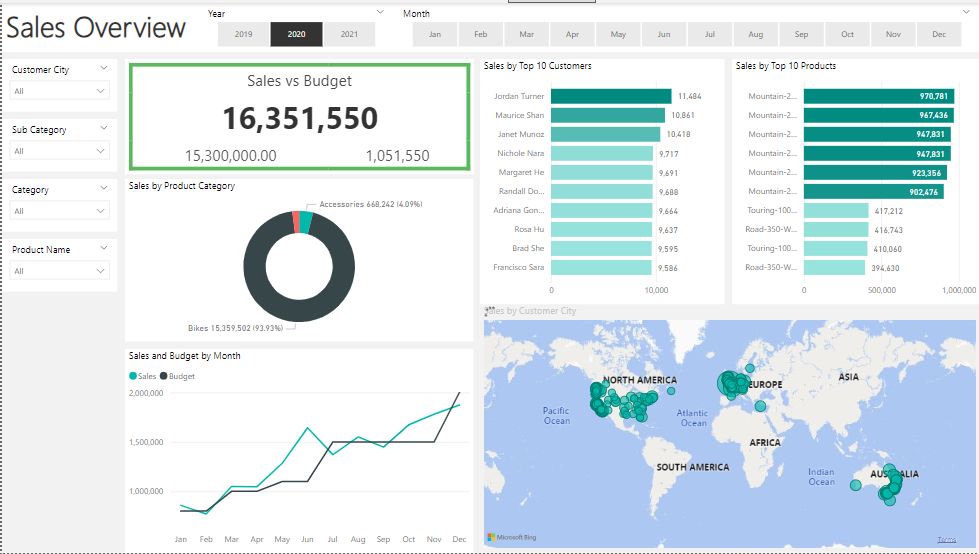

The dashboard page shown, as its layout file describes it:
{"tool":"powerbi","page":{"name":"Sales Overview","canvas":[1280,720],"ordinal":0},"visuals":[{"type":"textbox","box":[0,0,1280,64],"z":0},{"type":"slicer","fields":{"Values":["DIM_Calendar.Year"]},"box":[256,0,256,64],"z":1000},{"type":"slicer","fields":{"Values":["DIM_Calendar.MonthShort"]},"box":[512,0,768,64],"z":2000},{"type":"slicer","fields":{"Values":["DIM_Customers.Customer City"]},"box":[0,73,150.5,69.3],"z":3000},{"type":"slicer","fields":{"Values":["DIM_Products.Product Category"]},"box":[0,229.9,150.5,69.3],"z":4000},{"type":"slicer","fields":{"Values":["DIM_Products.Product Name"]},"box":[0,308.4,150.5,69.3],"z":5000},{"type":"slicer","fields":{"Values":["DIM_Products.Sub Category"]},"box":[0,151.4,150.5,69.3],"z":6000},{"type":"barChart","title":"Sales by Top 10 Products","fields":{"Category":["DIM_Products.Product Name"],"Y":["Analysis Metrics.Sales"]},"box":[955.2,73,324.8,321.1],"z":7000},{"type":"lineChart","fields":{"Category":["DIM_Calendar.MonthShort"],"Y":["Analysis Metrics.Sales","Analysis Metrics.Budget"]},"box":[160.7,452.8,456.3,267.2],"z":8000},{"type":"barChart","title":"Sales by Top 10 Customers","fields":{"Category":["DIM_Customers.Full Name"],"Y":["Analysis Metrics.Sales"]},"box":[625.9,73,320.2,321.1],"z":9000},{"type":"donutChart","fields":{"Y":["Analysis Metrics.Sales"],"Series":["DIM_Products.Product Category"]},"box":[160.6,229.9,456.2,213.5],"z":10000},{"type":"BBED0A4D4D8D44CE93CF2DAFADEE466C","fields":{"actual":["Analysis Metrics.Sales"],"target2":["Analysis Metrics.Sales / Budget"],"target1":["Analysis Metrics.Budget"]},"box":[160.5,73.4,456.6,151.3],"z":11000},{"type":"map","fields":{"Category":["DIM_Customers.Customer City"],"Size":["Analysis Metrics.Sales"]},"box":[626.4,394.6,653.8,325.4],"z":12001}]}

Visuals, with their boxes in screenshot pixels (x1, y1, x2, y2), scaled from the page's 1280x720 canvas onto the 979x554 screenshot:
textbox: <region>0, 0, 978, 49</region>
slicer - DIM_Calendar.Year: <region>196, 0, 392, 49</region>
slicer - DIM_Calendar.MonthShort: <region>392, 0, 978, 49</region>
slicer - DIM_Customers.Customer City: <region>0, 56, 115, 109</region>
slicer - DIM_Products.Product Category: <region>0, 177, 115, 230</region>
slicer - DIM_Products.Product Name: <region>0, 237, 115, 291</region>
slicer - DIM_Products.Sub Category: <region>0, 116, 115, 170</region>
"Sales by Top 10 Products" barChart: <region>731, 56, 978, 303</region>
lineChart - DIM_Calendar.MonthShort x Analysis Metrics.Sales: <region>123, 348, 472, 553</region>
"Sales by Top 10 Customers" barChart: <region>479, 56, 724, 303</region>
donutChart - Analysis Metrics.Sales x DIM_Products.Product Category: <region>123, 177, 472, 341</region>
BBED0A4D4D8D44CE93CF2DAFADEE466C - Analysis Metrics.Sales x Analysis Metrics.Sales / Budget: <region>123, 56, 472, 173</region>
map - DIM_Customers.Customer City x Analysis Metrics.Sales: <region>479, 304, 978, 553</region>
